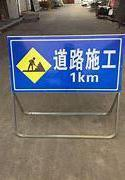sign: (7, 34, 125, 92)
